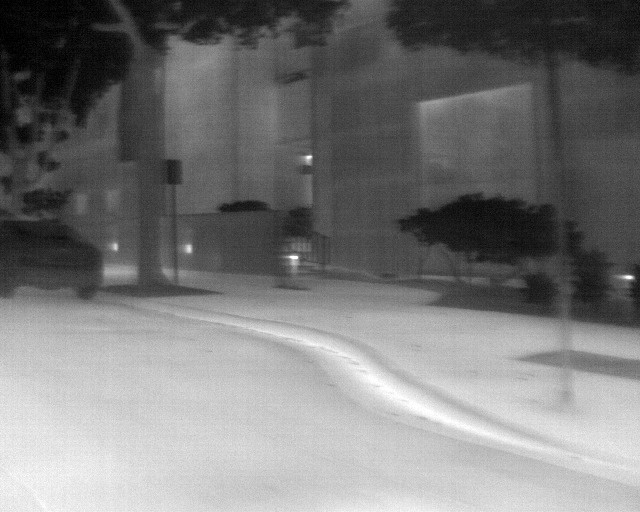vehicle: (2, 220, 103, 297)
